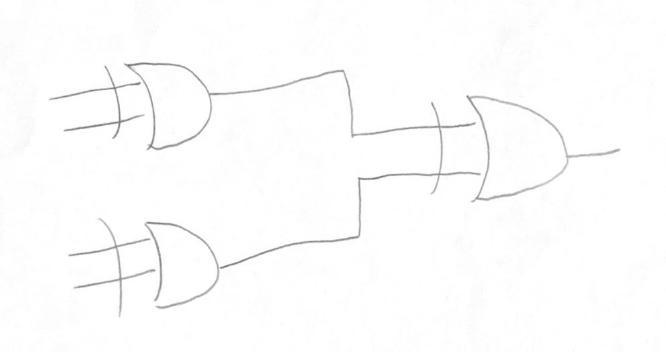XOR: (413, 80, 580, 207), (92, 205, 247, 315), (89, 57, 234, 163)
